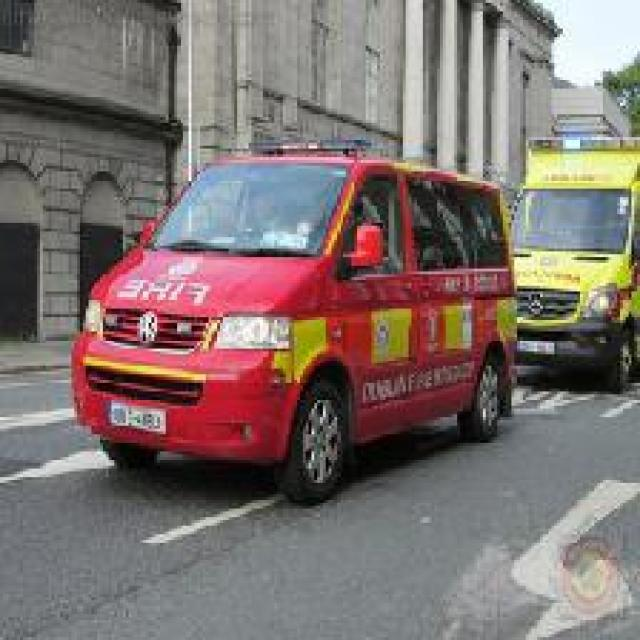emergency: (68, 138, 520, 506)
